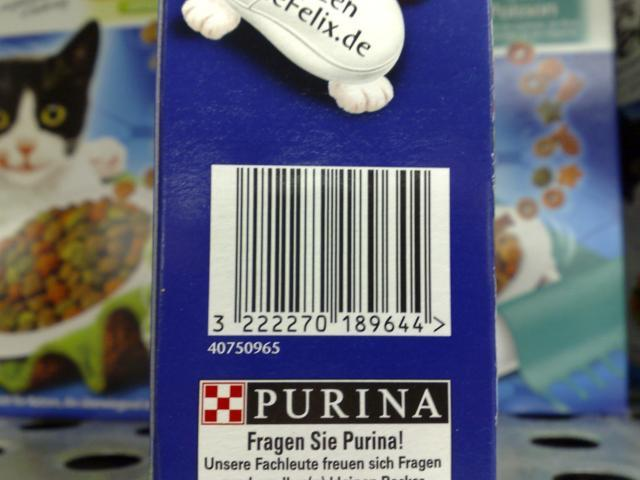Barcode: (206, 164, 452, 337)
